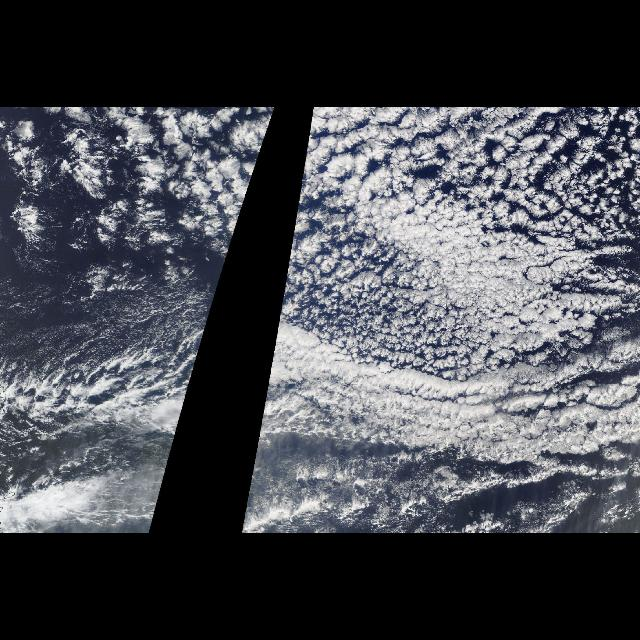Flower: (327, 111, 636, 362)
Gravel: (384, 108, 640, 260), (3, 318, 199, 449)
Sugar: (2, 236, 194, 360)
